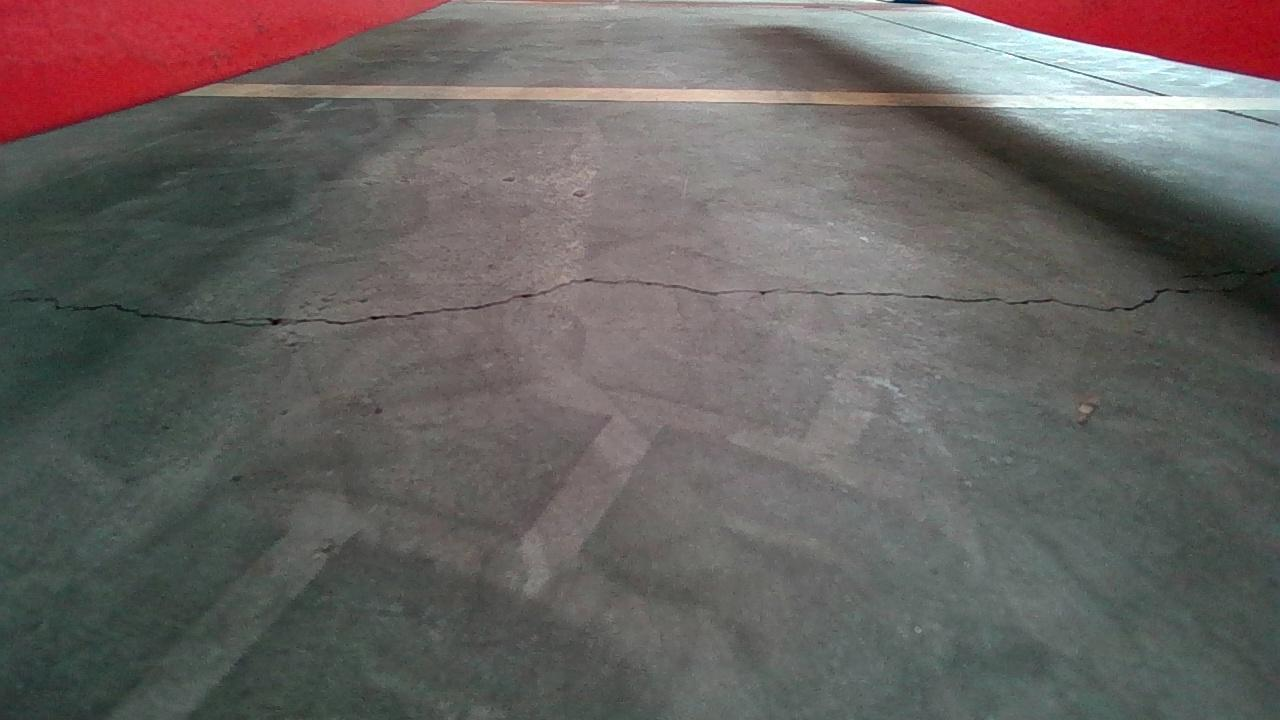yellow_line: (180, 78, 1280, 112)
